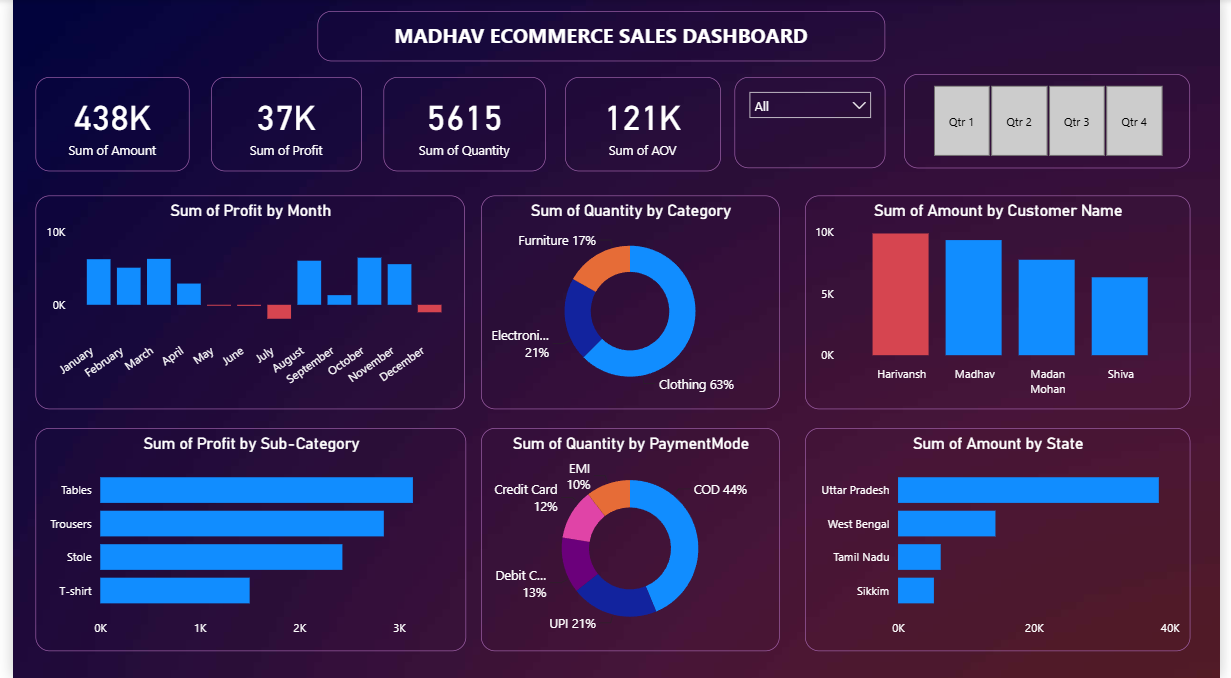

What the dashboard file says about the page in this screenshot:
{"tool":"powerbi","page":{"name":"Page 1","canvas":[1280,720],"ordinal":0},"visuals":[{"type":"textbox","box":[323.3,13.3,601.7,53.3],"z":0},{"type":"columnChart","title":"Sum of Profit by Month","fields":{"Category":["Orders.Order Date.Variation.Date Hierarchy.Month"],"Y":["Sum(Details.Profit)"]},"box":[23.3,208.3,455,226.7],"z":1000},{"type":"barChart","fields":{"Category":["Details.Sub-Category"],"Y":["Sum(Details.Profit)"]},"box":[23.3,455,456.7,236.7],"z":2000},{"type":"donutChart","fields":{"Category":["Details.Category"],"Y":["Sum(Details.Quantity)"]},"box":[496.7,208.3,316.7,226.7],"z":3000},{"type":"donutChart","fields":{"Category":["Details.PaymentMode"],"Y":["Sum(Details.Quantity)"]},"box":[496.7,455,316.7,236.7],"z":4000},{"type":"card","fields":{"Values":["Sum(Details.Amount)"]},"box":[23.3,83.3,163.3,100],"z":5000},{"type":"card","fields":{"Values":["Sum(Details.Profit)"]},"box":[210,83.3,160,100],"z":6000},{"type":"card","fields":{"Values":["Sum(Details.Quantity)"]},"box":[393.3,83.3,171.7,100],"z":7000},{"type":"card","fields":{"Values":["Sum(Details.AOV)"]},"box":[585,83.3,165,100],"z":8000},{"type":"barChart","fields":{"Category":["Orders.State"],"Y":["Sum(Details.Amount)"]},"box":[840,455,408.3,236.7],"z":9000},{"type":"columnChart","title":"Sum of Amount by Customer Name","fields":{"Category":["Orders.CustomerName"],"Y":["Sum(Details.Amount)"]},"box":[840,208.3,408.3,226.7],"z":10000},{"type":"slicer","fields":{"Values":["Orders.Order Date.Variation.Date Hierarchy.Quarter"]},"box":[945,80,303.3,100],"z":11000},{"type":"slicer","fields":{"Values":["Orders.State"]},"box":[765,83.3,160,96.7],"z":12000}]}

Visuals, with their boxes in screenshot pixels (x1, y1, x2, y2), scaled from the page's 1280x720 canvas onto the 1231x678 screenshot:
textbox: {"x1": 311, "y1": 13, "x2": 890, "y2": 63}
"Sum of Profit by Month" columnChart: {"x1": 22, "y1": 196, "x2": 460, "y2": 410}
barChart - Details.Sub-Category x Sum(Details.Profit): {"x1": 22, "y1": 428, "x2": 462, "y2": 651}
donutChart - Details.Category x Sum(Details.Quantity): {"x1": 478, "y1": 196, "x2": 782, "y2": 410}
donutChart - Details.PaymentMode x Sum(Details.Quantity): {"x1": 478, "y1": 428, "x2": 782, "y2": 651}
card - Sum(Details.Amount): {"x1": 22, "y1": 78, "x2": 179, "y2": 173}
card - Sum(Details.Profit): {"x1": 202, "y1": 78, "x2": 356, "y2": 173}
card - Sum(Details.Quantity): {"x1": 378, "y1": 78, "x2": 543, "y2": 173}
card - Sum(Details.AOV): {"x1": 563, "y1": 78, "x2": 721, "y2": 173}
barChart - Orders.State x Sum(Details.Amount): {"x1": 808, "y1": 428, "x2": 1201, "y2": 651}
"Sum of Amount by Customer Name" columnChart: {"x1": 808, "y1": 196, "x2": 1201, "y2": 410}
slicer - Orders.Order Date.Variation.Date Hierarchy.Quarter: {"x1": 909, "y1": 75, "x2": 1201, "y2": 170}
slicer - Orders.State: {"x1": 736, "y1": 78, "x2": 890, "y2": 170}
